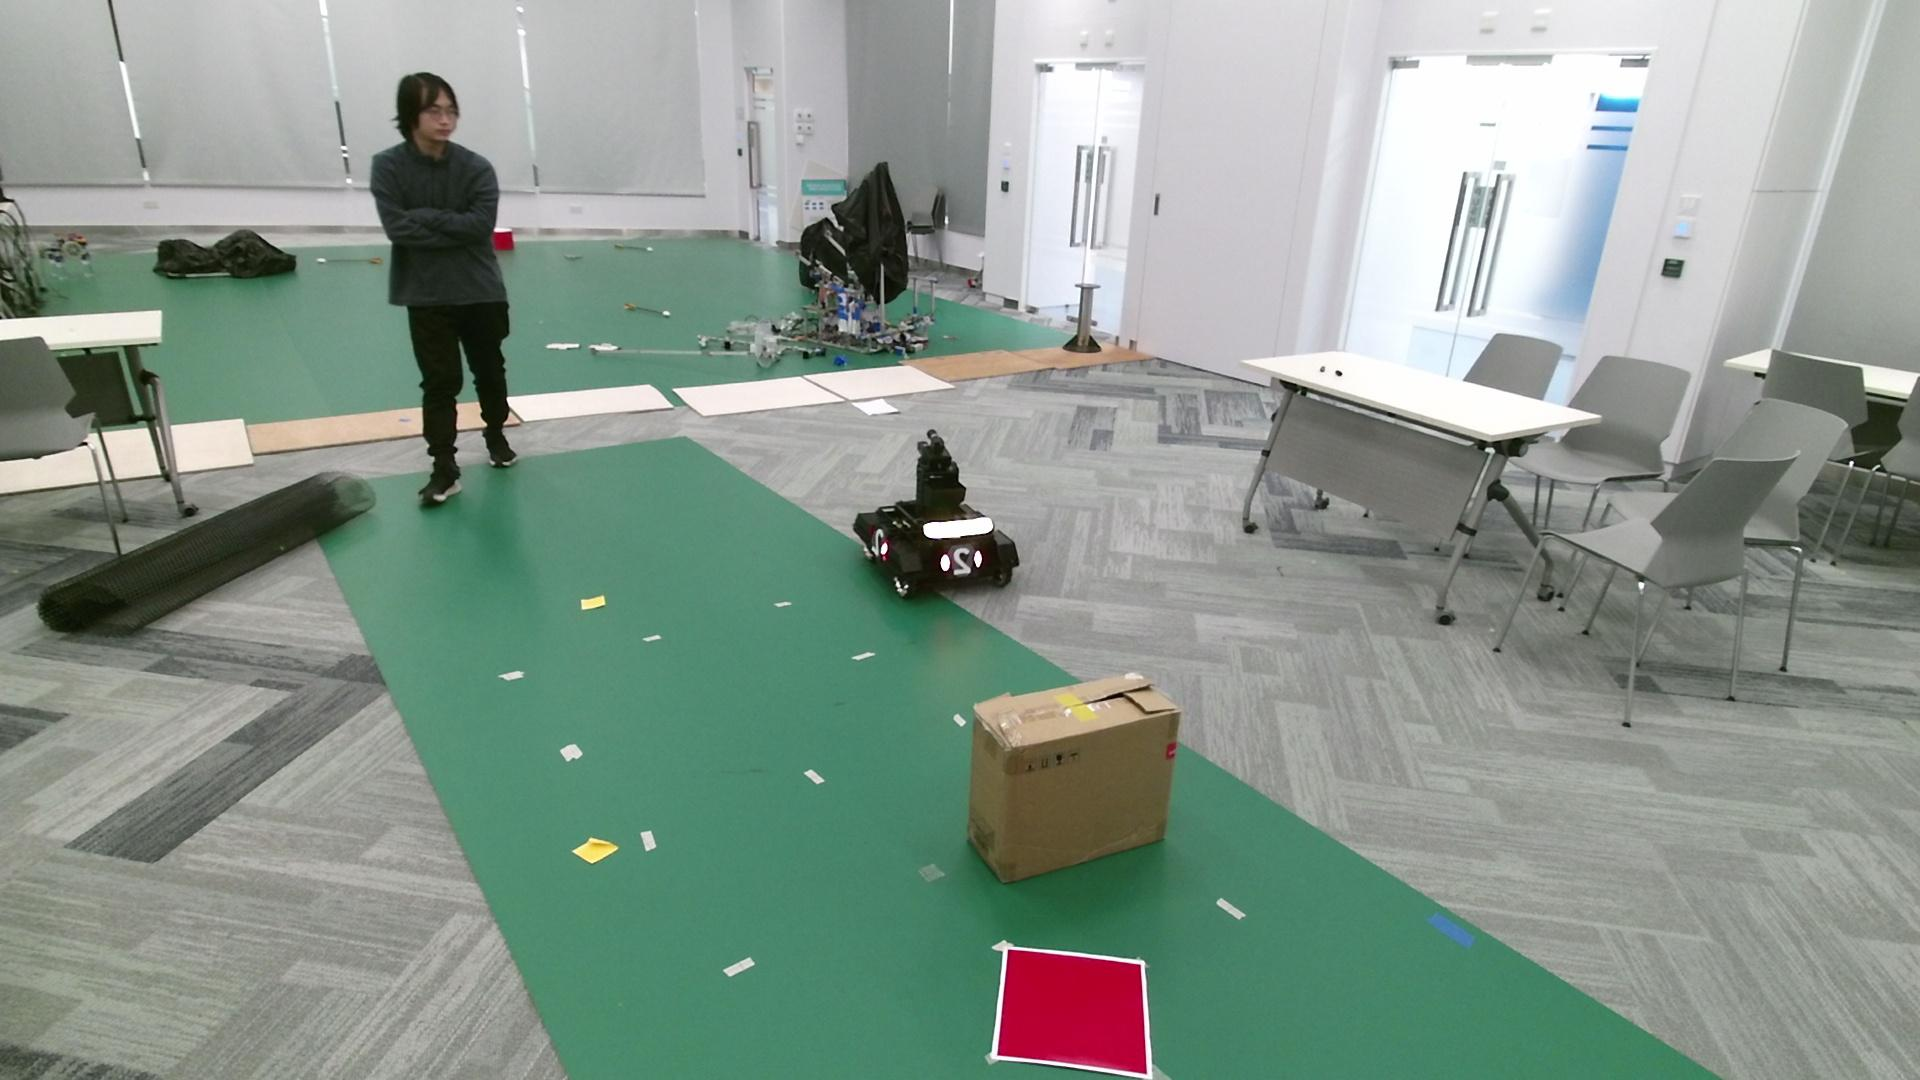robot: (853, 429, 1021, 599)
